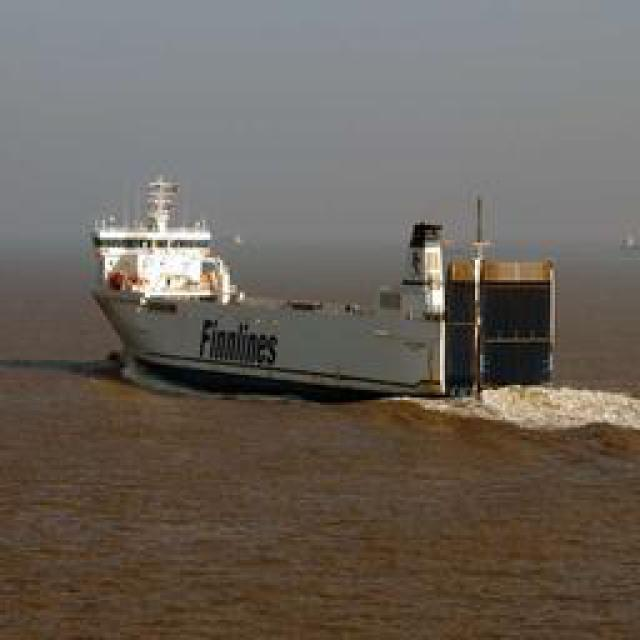Ship: (85, 176, 566, 396)
